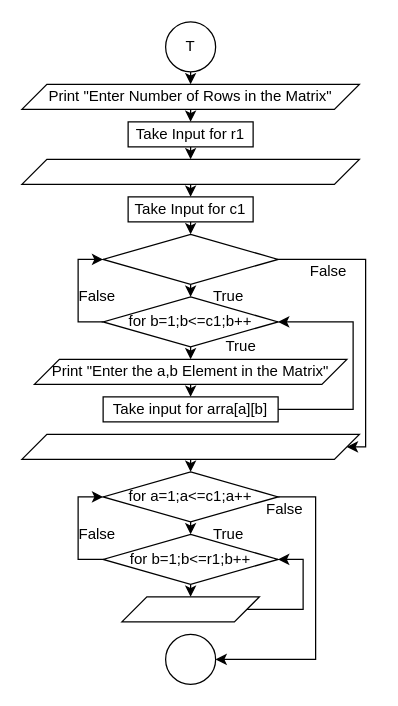
This 398x706 diagram has some shape labels left out. The shapes that lost their labels are listed below. From the top down, each one's centre as x and y in pixels, then its label:
point 190,171: Print "Enter Number of columns in the Matrix"
point 190,258: for a=1;a<=r1;a++
point 190,446: Print "The Transpose of Given Matrix is: "
point 190,609: Print arra[b][a]
point 190,658: Exit
